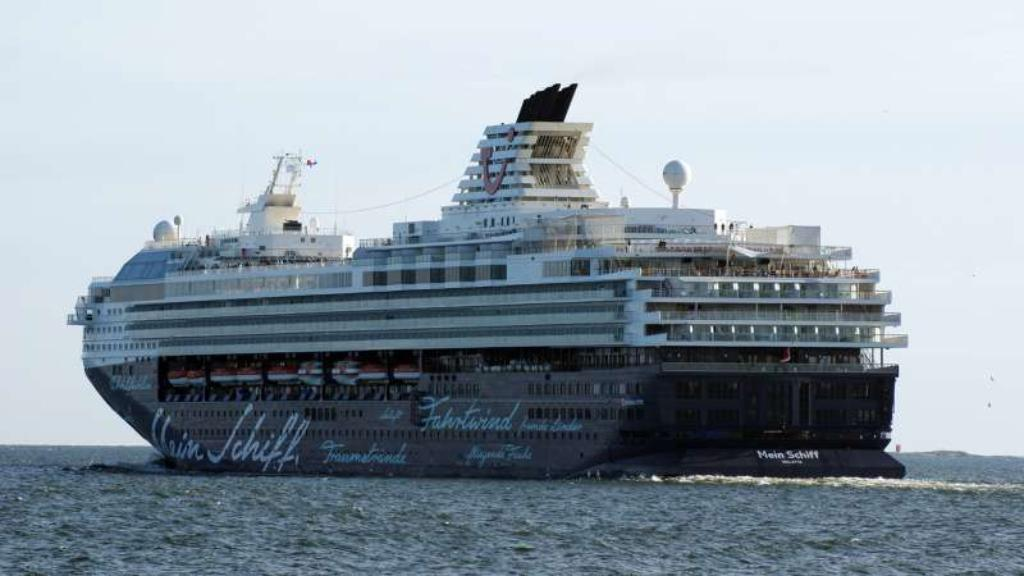PassengerShip: (66, 78, 916, 479)
